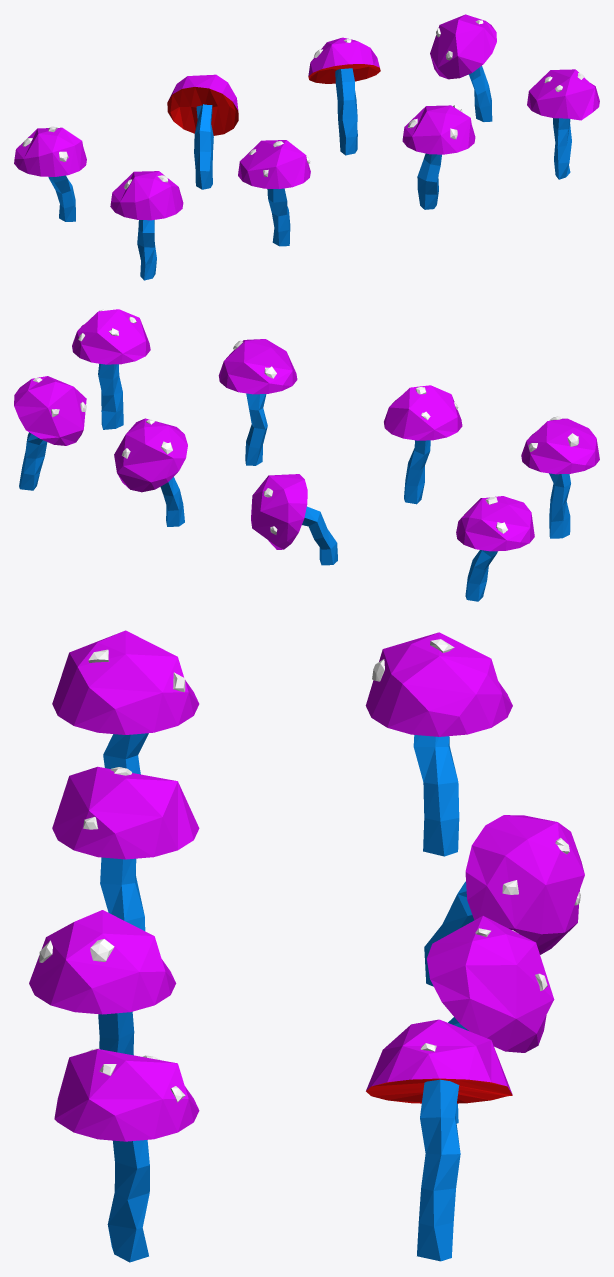
File: MushroomTrees.FBX
3 views of the same model, one above another, from view 1: azimuth 30°, elevation 25°; view 2: azimuth 150°, elevation 25°; view 3: azimuth 270°, elevation 25° (orthographic). The views are drawn at different scales.
Parts seen in each view (by area): view 1: Cylinder008, Spot017, MushroomHead001, MushroomHead006, Spot010, Spot001, Cylinder006, Spot031; view 2: Spot017, MushroomHead006, Spot001, Cylinder006, MushroomHead001, Spot010, Spot031, Cylinder008; view 3: Spot031, Spot001, Spot017, Cylinder008, Spot010, Cylinder006, MushroomHead001, MushroomHead006.
Part boxes in pixels (box(x1,y1,x2,y2)): Cylinder008: box(167, 74, 238, 189); Spot017: box(430, 14, 496, 121); MushroomHead001: box(402, 105, 475, 209); MushroomHead006: box(308, 37, 380, 155); Spot010: box(238, 140, 310, 246); Spot001: box(527, 69, 599, 179); Cylinder006: box(110, 171, 183, 280); Spot031: box(14, 126, 86, 221); Spot017: box(14, 376, 86, 490); MushroomHead006: box(114, 418, 187, 526); Spot001: box(72, 309, 150, 429); Cylinder006: box(521, 416, 599, 538); MushroomHead001: box(218, 339, 297, 465); Spot010: box(384, 385, 462, 504); Spot031: box(456, 496, 534, 601); Cylinder008: box(251, 474, 337, 565); Spot031: box(365, 632, 512, 856); Spot001: box(54, 1048, 199, 1262); Spot017: box(366, 1019, 512, 1261); Cylinder008: box(424, 815, 584, 986); Spot010: box(52, 766, 199, 930); Cylinder006: box(52, 630, 199, 774); MushroomHead001: box(29, 910, 176, 1055); MushroomHead006: box(427, 916, 554, 1123).
Bounding box in the file's own units: 125 × 60.39 × 25.1.
